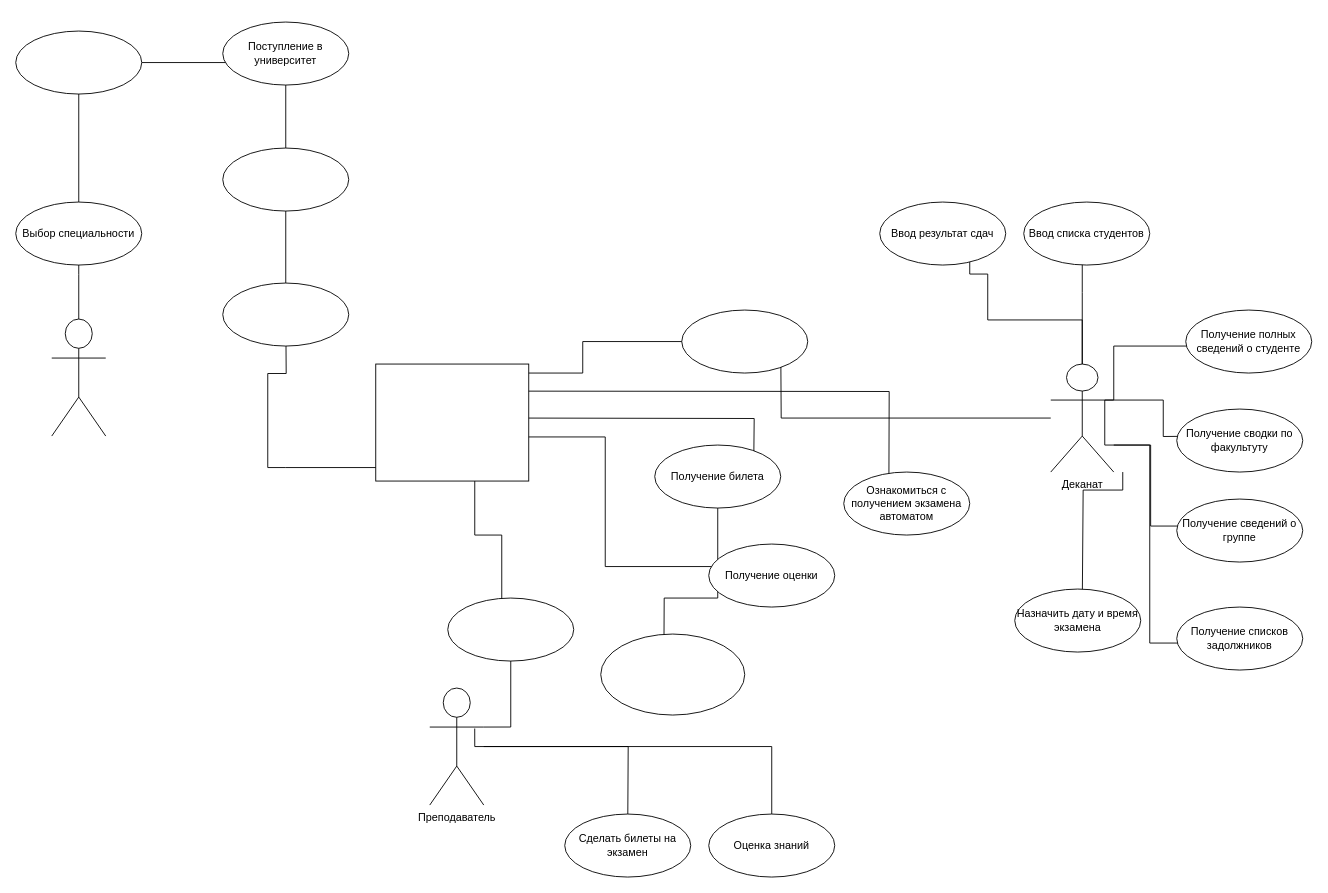
The diagram is 1328 pixels wide and 893 high, and some of its shapes have lost their labels. The shapes that lost their labels are listed below. From the top down, each one's centre as x and y in pixels, then its label:
At (x=78, y=62): "Выбор платного или бесплатного обучения".
At (x=285, y=179): "Посещение занятий".
At (x=285, y=314): "Получение оценок/баллов в течение учебного семестра".
At (x=744, y=341): "Допуск на экзамен".
At (x=78, y=377): "Студент".
At (x=452, y=422): "Проверка знаний в конце семестра".
At (x=510, y=629): "Вызов на собеседование".
At (x=672, y=674): "Написать решение задачи/ ответ на вопрос".
